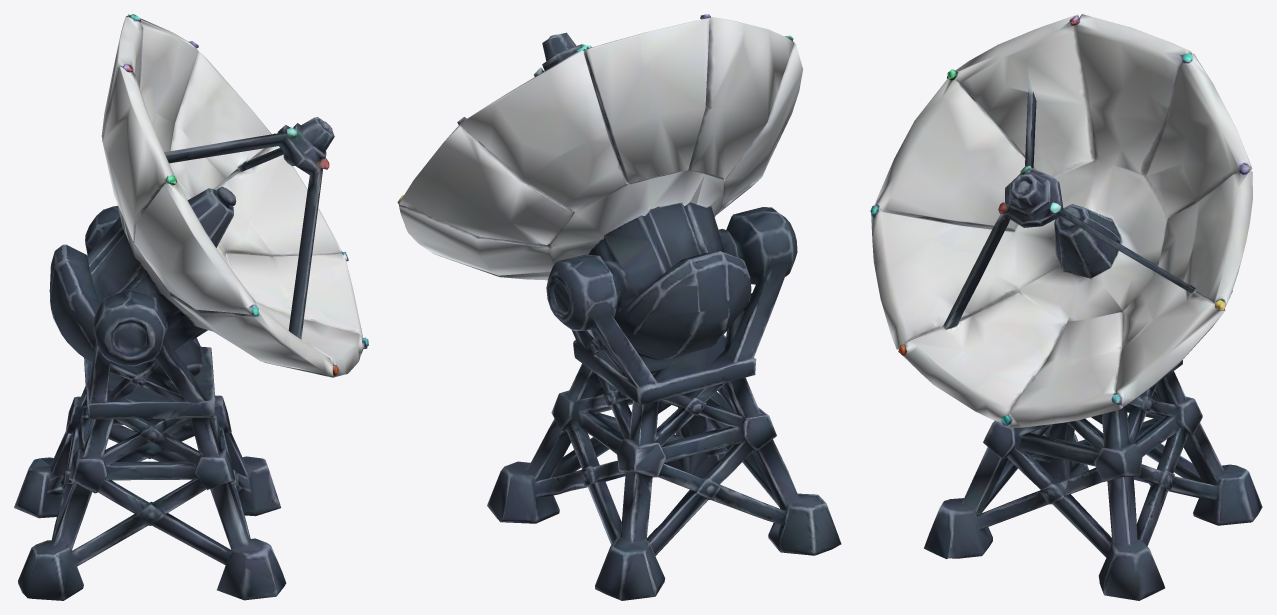
File: prop_star_dish.fbx
3 renders of one model, left to right at view 1: azimuth 30°, elevation 25°; view 2: azimuth 150°, elevation 25°; view 3: azimuth 270°, elevation 25°, orthographic. The views are drawn at different scales.
Visible parts, largest first — view 1: tripo_node_6ea999c6-8a7c-45ed-a110-f4b855688124; view 2: tripo_node_6ea999c6-8a7c-45ed-a110-f4b855688124; view 3: tripo_node_6ea999c6-8a7c-45ed-a110-f4b855688124.
Part boxes in pixels (x1,y1,x2,y2): tripo_node_6ea999c6-8a7c-45ed-a110-f4b855688124: [14, 14, 368, 600]; tripo_node_6ea999c6-8a7c-45ed-a110-f4b855688124: [397, 14, 841, 600]; tripo_node_6ea999c6-8a7c-45ed-a110-f4b855688124: [870, 14, 1262, 600].
Size of the model in its own units: 0.7381 by 0.9781 by 0.7004.
